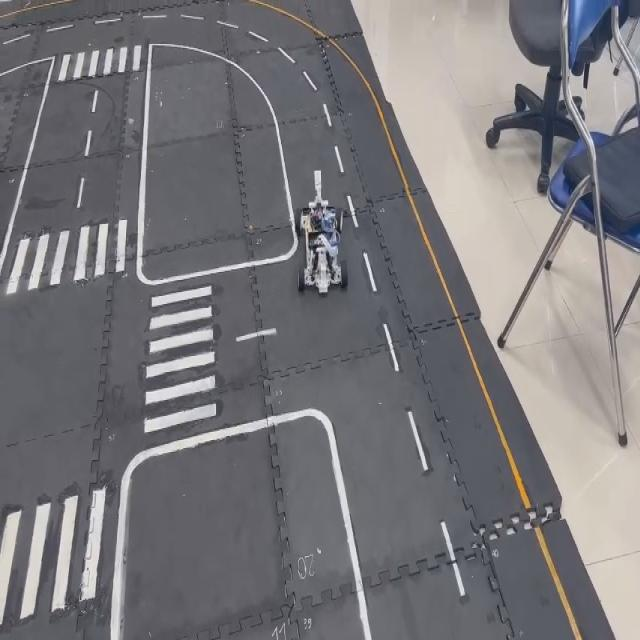SiCo-CAR: (296, 168, 348, 296)
